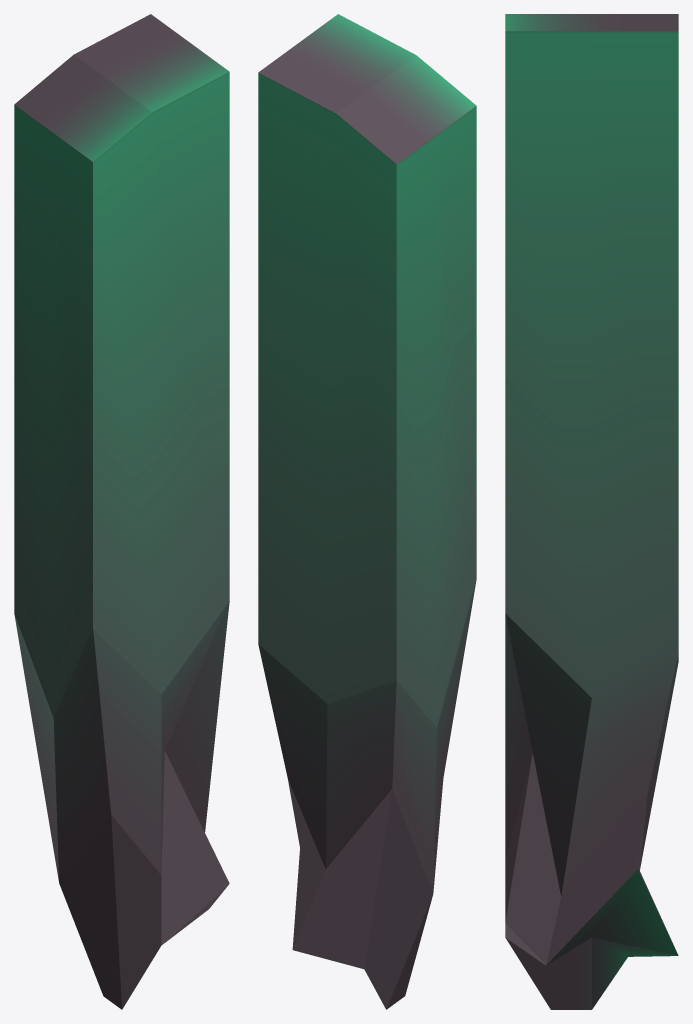
The model's file is block01_Incline.fbx.
The picture shows the model from 3 angles, left to right: view 1: azimuth 30°, elevation 25°; view 2: azimuth 150°, elevation 25°; view 3: azimuth 270°, elevation 25°; orthographic projection. The views are drawn at different scales.
Visible parts, largest first — view 1: Cube_17; view 2: Cube_17; view 3: Cube_17.
Part boxes in pixels (x1,y1,x2,y2): Cube_17: [14, 14, 229, 1009]; Cube_17: [258, 14, 476, 1009]; Cube_17: [505, 14, 678, 1009].
Bounding box in the file's own units: 200 × 1304 × 200.
1 material, 1 textured.
